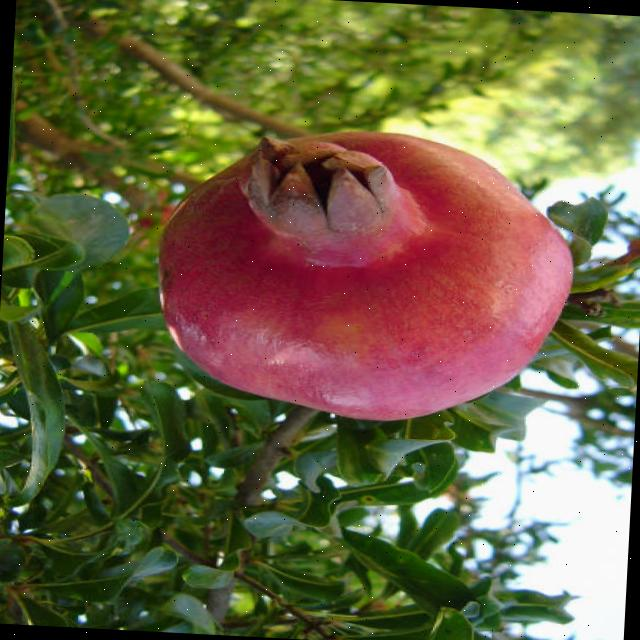Ripe: (144, 115, 589, 438)
